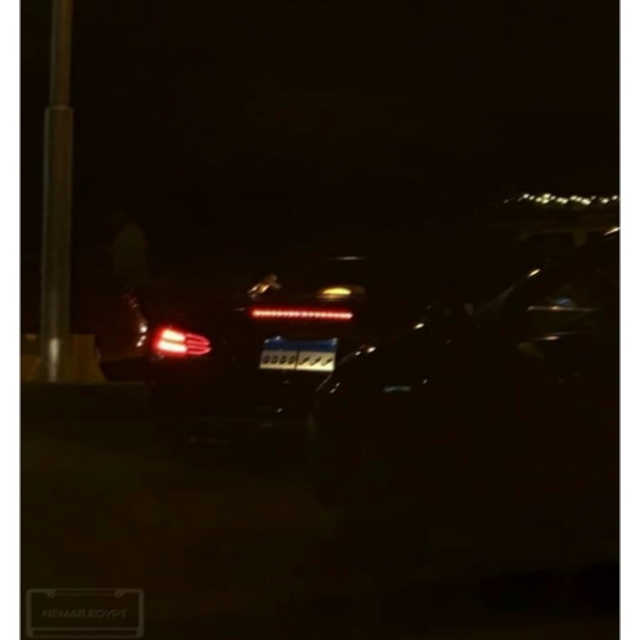License Plate: (255, 334, 340, 372)
